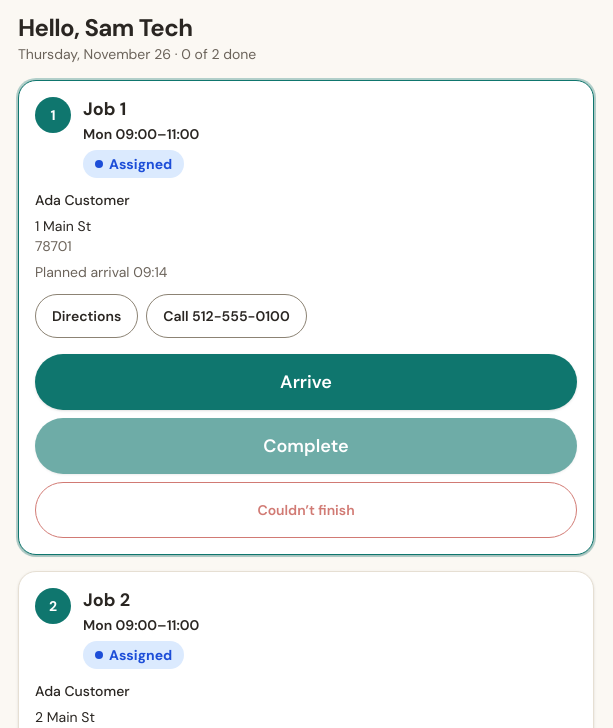
Test: TechnicianHome › Arrive sends one request, disables every button while it is sent, then enables Complete
Click the button "Arrive" at point(306, 382), box [35,354,577,410]
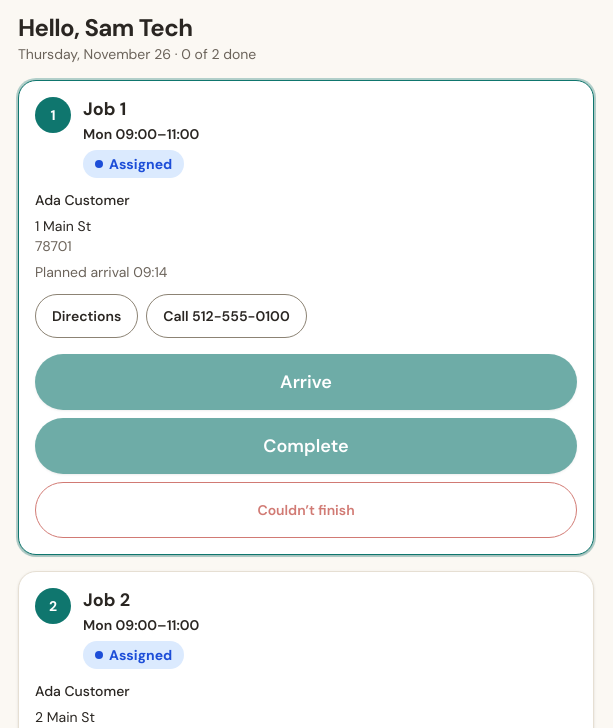
Click the button "Arrive" at point(306, 382), box [35,354,577,410]
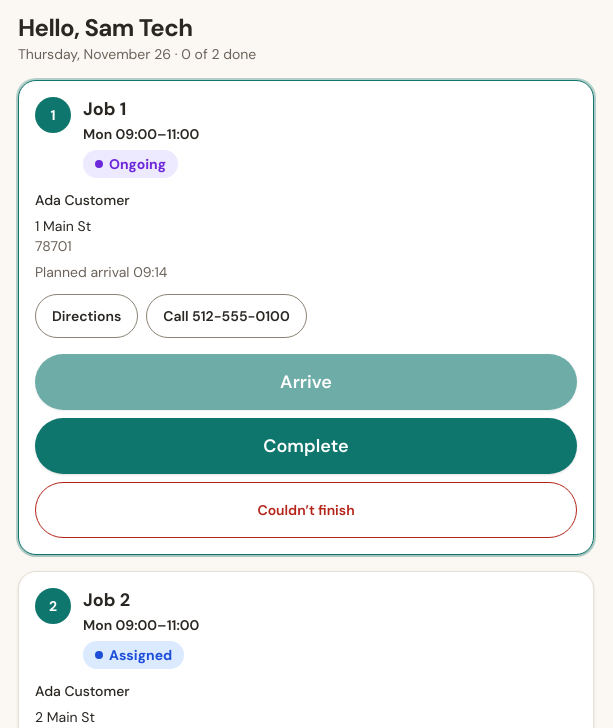
Now the button "Arrive" is disabled, box [35,354,577,410]
Now the button "Complete" is enabled, box [35,418,577,474]
Now the element with id "job-1" shows "Ongoing", box [109,155,166,173]
